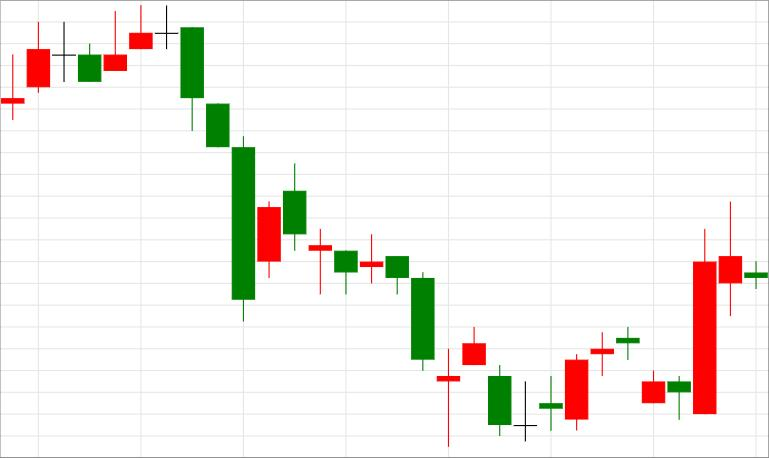three_black_crows_fall: (79, 5, 255, 321)
